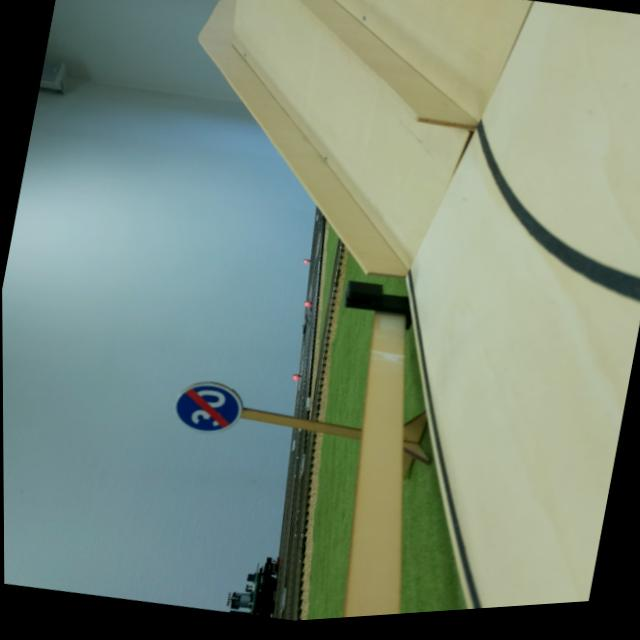panneau_fin30: (170, 373, 246, 439)
pont: (146, 0, 513, 294)
